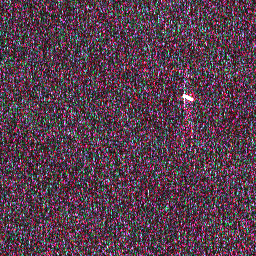ship: (180, 91, 196, 104)
